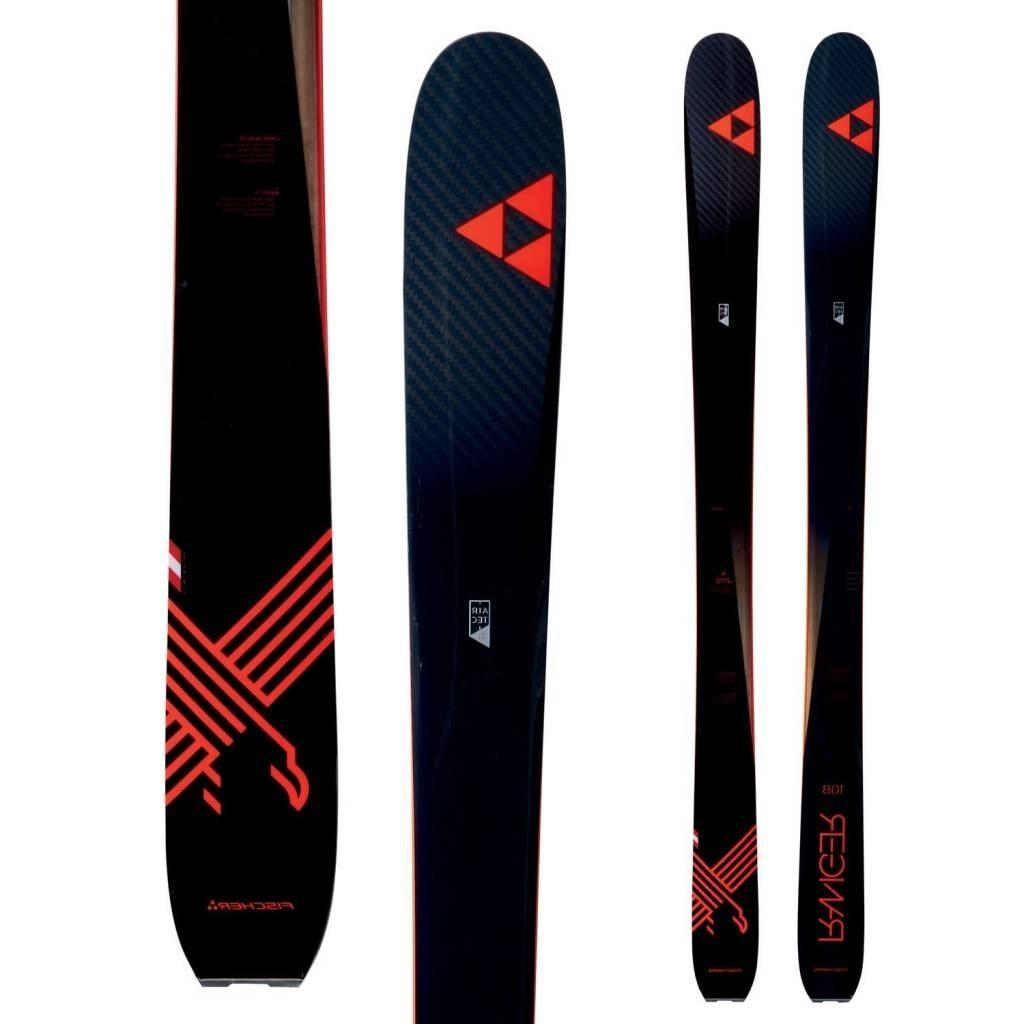Skis: (654, 0, 978, 1011)
